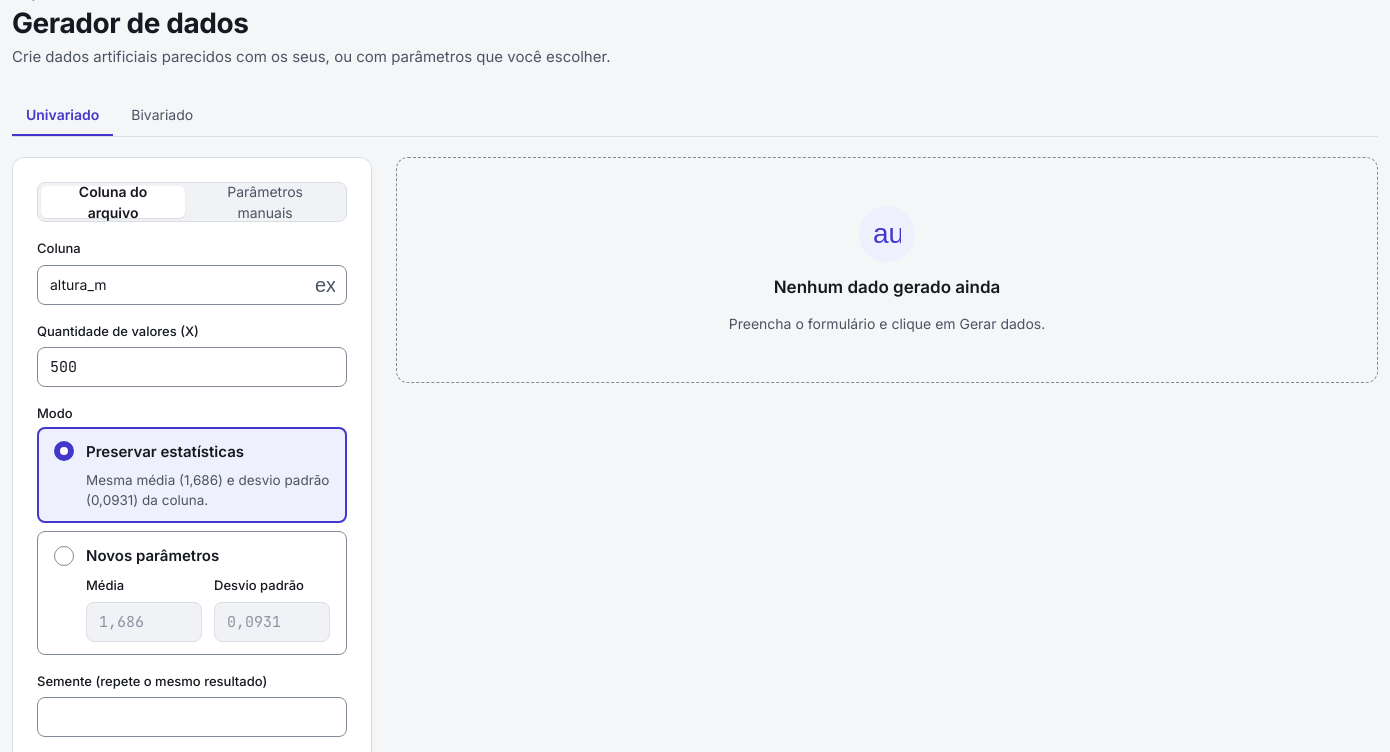
PaginaGerador › gera, mostra a comparação, o gráfico e a explicação e guarda a geração na sessão
Check: the text "Mesma média (1,686) e desvio padrão (0,0931) da coluna." is shown, box [86, 471, 330, 510]
Type "42" into the field labelled "Semente (repete o mesmo resultado)" at (192, 717), box [37, 697, 347, 737]
(page scrolled)
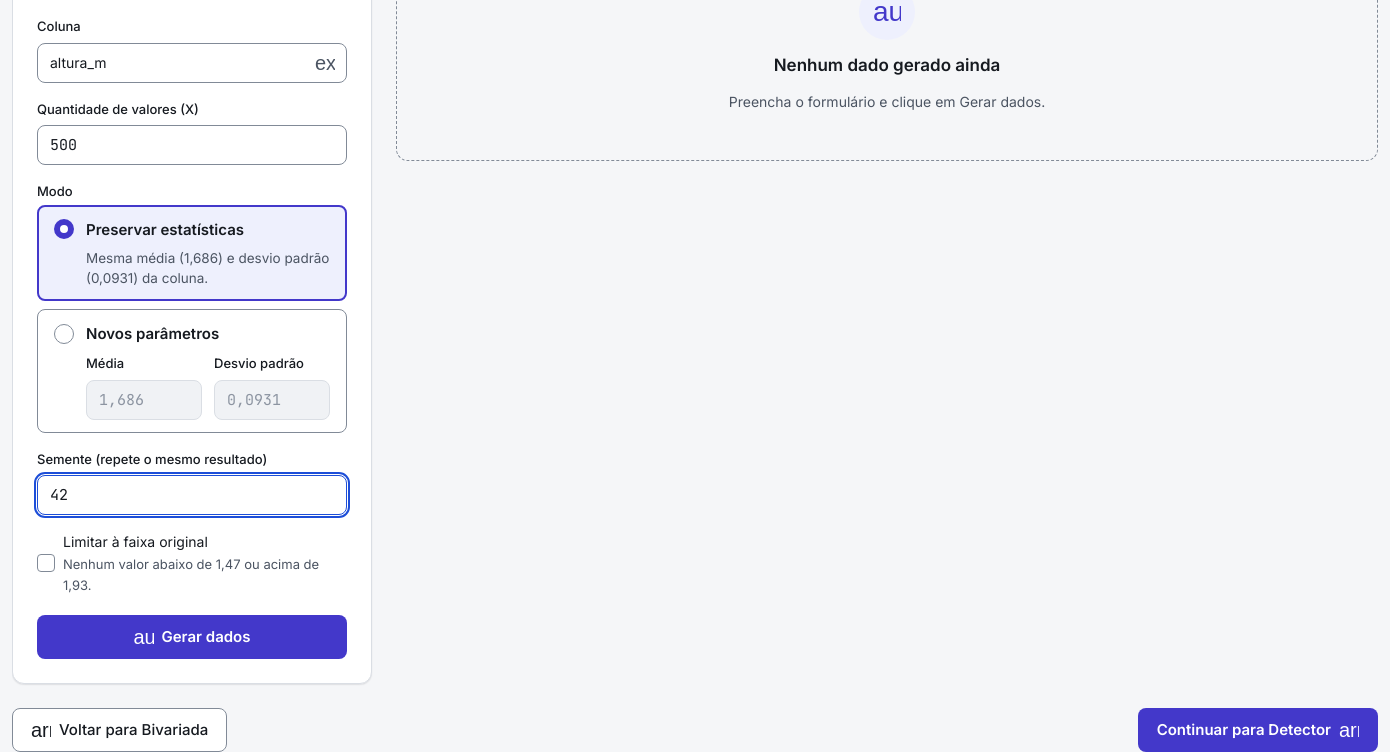
Click the button "Gerar dados" at (192, 637), box [37, 615, 347, 659]
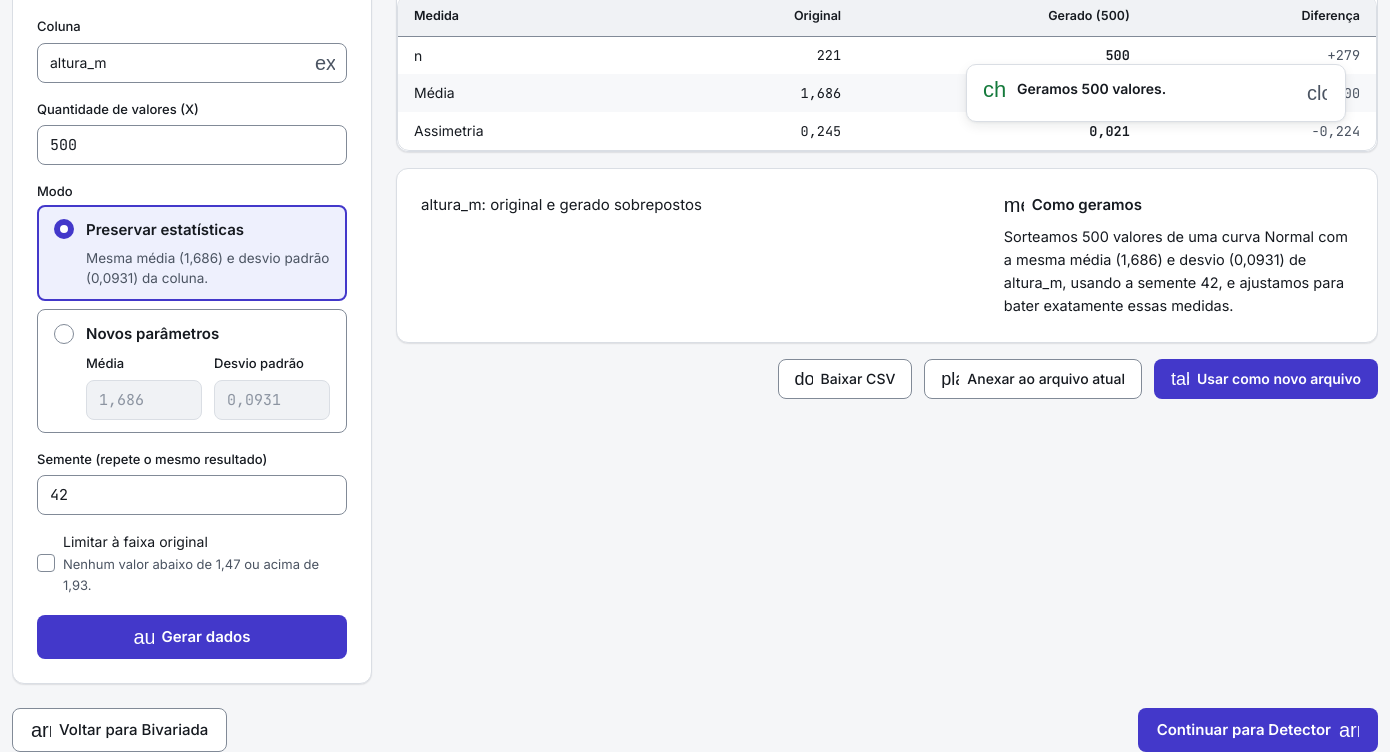
Check: the text "Sorteamos 500 valores de uma curva Normal com a mesma média (1,686) e desvio (0,0931) de altura_m, usando a semente 42, " is shown, box [1004, 228, 1348, 314]
Check: the text "−0,224" is shown, box [1311, 122, 1360, 140]
Check: the element "altura_m: original e gerado sobrepostos" is shown, box [421, 195, 702, 214]
